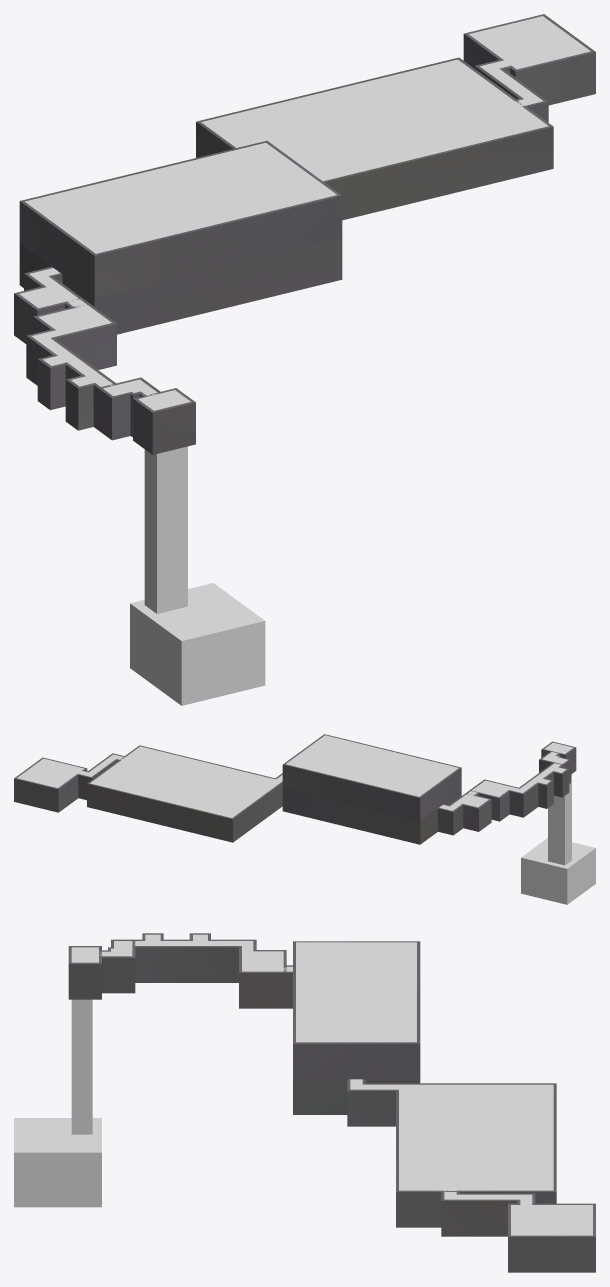
Rendered from Tutorial Mapexample.fbx.
The picture shows the model from 3 angles, top to bottom: view 1: azimuth 30°, elevation 25°; view 2: azimuth 150°, elevation 25°; view 3: azimuth 270°, elevation 25°; orthographic projection. The views are drawn at different scales.
Visible parts, largest first — view 1: Object_4, Object_1, Object_6, Object_9, Object_8, Object_7, Object_10; view 2: Object_4, Object_1, Object_6, Object_9, Object_8, Object_7, Object_10; view 3: Object_4, Object_1, Object_6, Object_9, Object_8, Object_7, Object_10.
Part boxes in pixels (<box>): Object_4: <box>14,14,595,454</box>; Object_1: <box>201,16,590,181</box>; Object_6: <box>25,142,336,253</box>; Object_9: <box>130,583,265,705</box>; Object_8: <box>144,446,187,613</box>; Object_7: <box>19,268,190,410</box>; Object_10: <box>135,585,259,638</box>; Object_4: <box>14,734,576,844</box>; Object_1: <box>17,746,282,817</box>; Object_6: <box>286,735,458,796</box>; Object_9: <box>521,838,595,904</box>; Object_8: <box>548,774,571,865</box>; Object_7: <box>439,742,573,810</box>; Object_10: <box>524,839,592,867</box>; Object_4: <box>68,933,595,1272</box>; Object_1: <box>350,1079,592,1235</box>; Object_6: <box>296,942,416,1042</box>; Object_9: <box>14,1118,101,1207</box>; Object_8: <box>71,999,92,1134</box>; Object_7: <box>71,934,292,971</box>; Object_10: <box>17,1119,98,1151</box>.
Size of the model in its own units: 7224 by 2926 by 5852.
